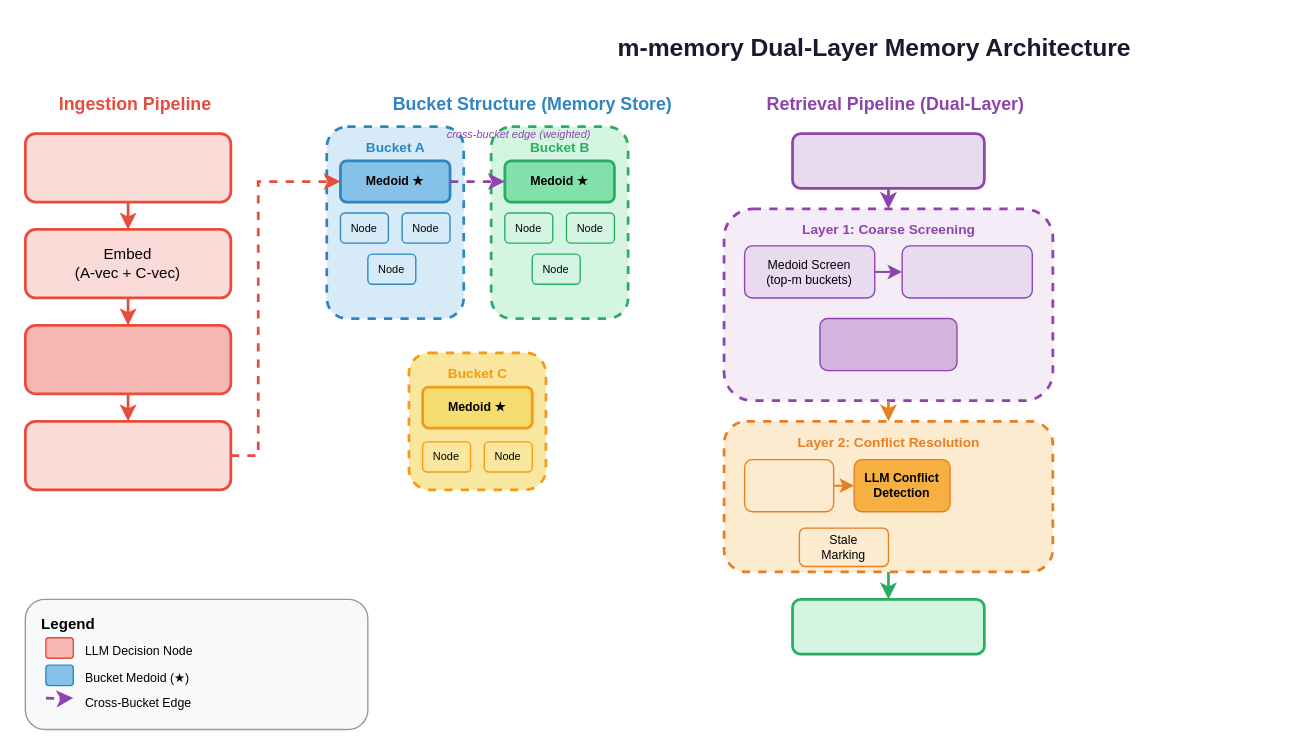
This 1308x754 diagram has some shape labels left out. Here are the shapes that lost their labels. From the top down, the centre of each, then its label:
At (x=127, y=167): "User Input (summary + content)".
At (x=887, y=160): "User Query".
At (x=966, y=271): "In-Bucket Fine Search".
At (x=127, y=359): "LLM Decision (bucket assignment)".
At (x=888, y=344): "Graph BFS Expansion".
At (x=127, y=454): "Assign to Bucket + Cross-Bucket Edges".
At (x=788, y=485): "Weighted Re-rank".
At (x=887, y=626): "Ranked Results".
